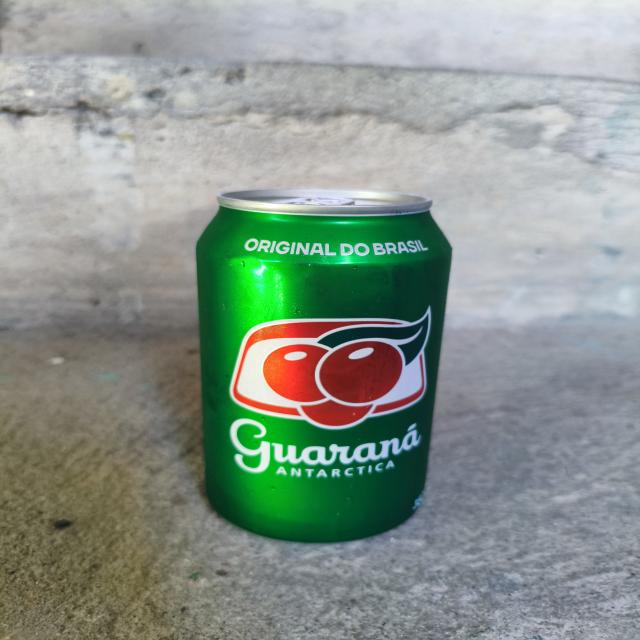Guarana: (187, 164, 464, 549)
